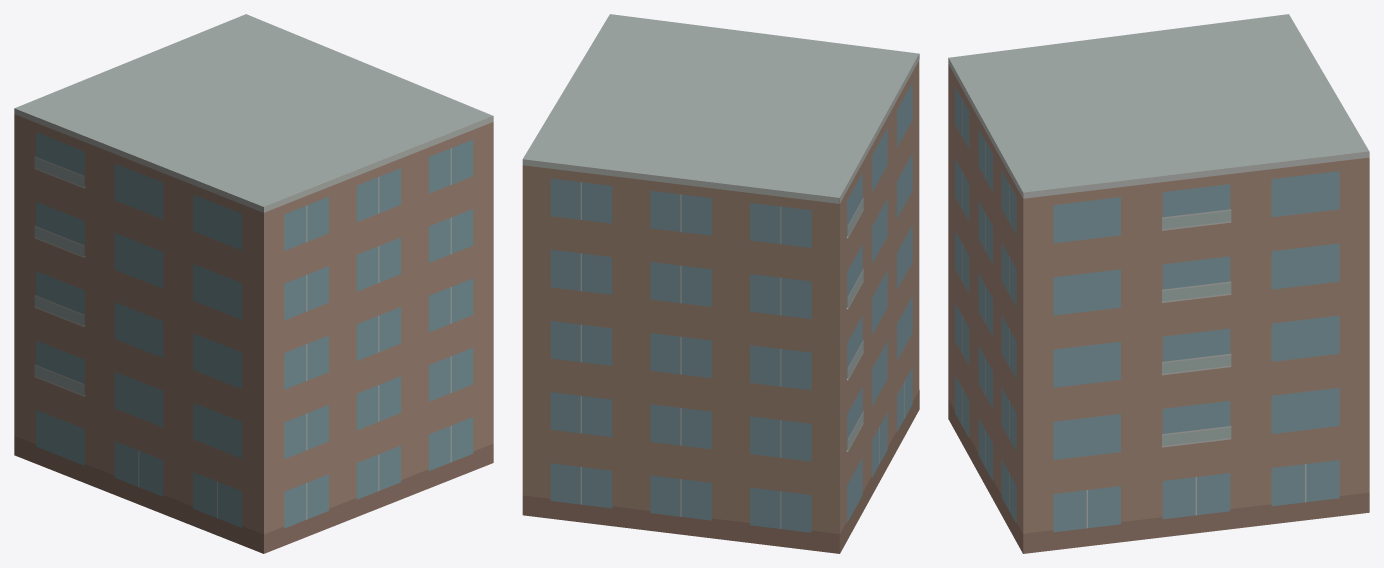
Rendered from survey-upis-32720942.glb.
The picture shows the model from 3 angles, left to right: view 1: azimuth 30°, elevation 25°; view 2: azimuth 150°, elevation 25°; view 3: azimuth 270°, elevation 25°; orthographic projection. The views are drawn at different scales.
Parts seen in each view (by area): view 1: survey-upis-32720942.tmp; view 2: survey-upis-32720942.tmp; view 3: survey-upis-32720942.tmp.
Part boxes in pixels (x1,y1,x2,y2): survey-upis-32720942.tmp: (14,14,493,553); survey-upis-32720942.tmp: (522,14,919,553); survey-upis-32720942.tmp: (948,14,1369,553).
Size of the model in its own units: 15.39 by 14.5 by 15.33.
